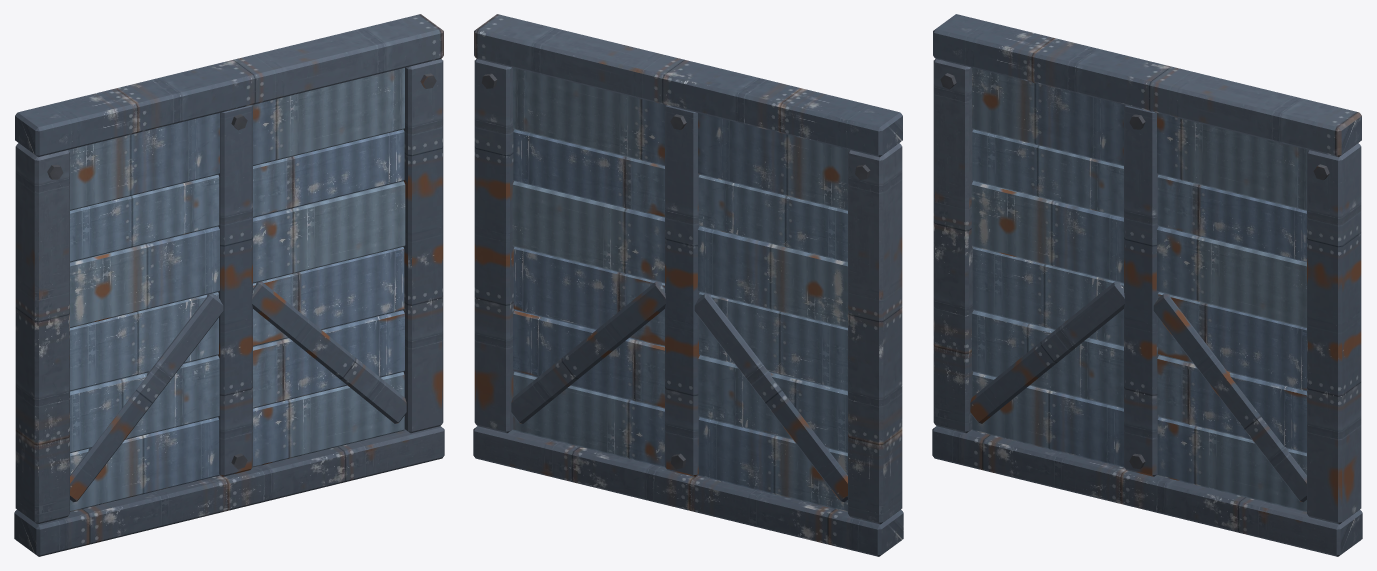
Rendered from duvar.glb.
The picture shows the model from 3 angles, left to right: view 1: azimuth 30°, elevation 25°; view 2: azimuth 150°, elevation 25°; view 3: azimuth 330°, elevation 25°; orthographic projection.
Visible parts, largest first — view 1: duvar; view 2: duvar; view 3: duvar.
Part boxes in pixels (<box>): duvar: <box>14,14,444,556</box>; duvar: <box>473,14,903,556</box>; duvar: <box>932,14,1362,556</box>.
Bounding box in the file's own units: 3 × 3.01 × 0.35.
Materials: 1 (1 with a texture image).
